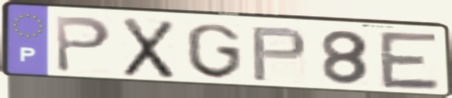8: (319, 29, 371, 87)
E: (377, 29, 443, 92)
G: (183, 22, 245, 81)
P: (52, 14, 114, 75), (249, 25, 310, 83)
X: (120, 16, 177, 81)
